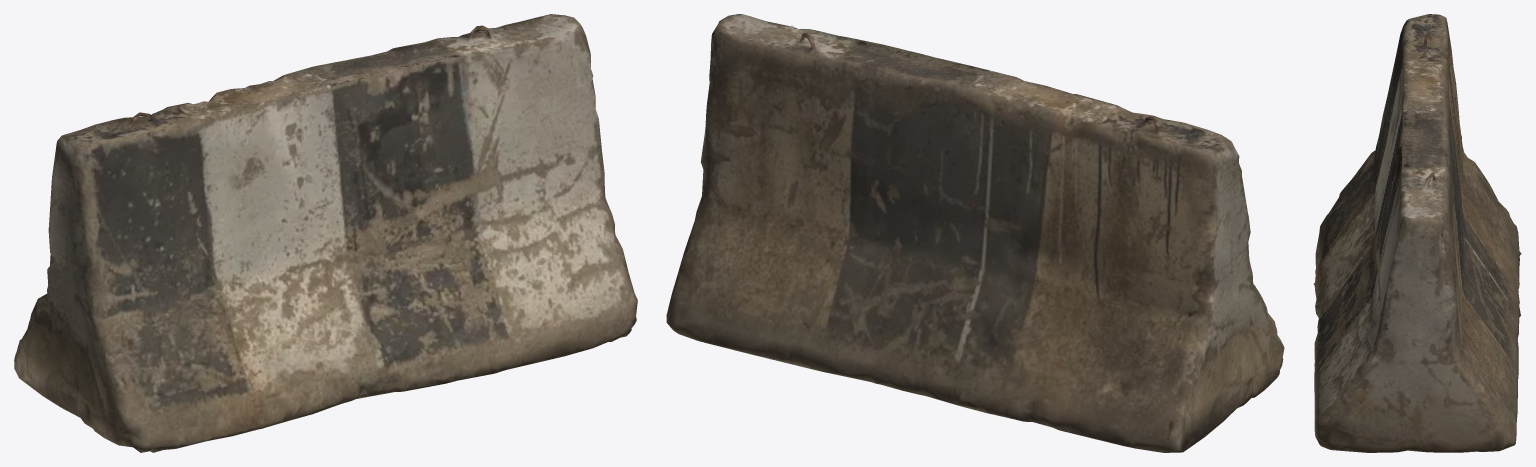
The model's file is road_barrier.glb.
The picture shows the model from 3 angles, left to right: view 1: azimuth 30°, elevation 25°; view 2: azimuth 150°, elevation 25°; view 3: azimuth 270°, elevation 25°; orthographic projection. The views are drawn at different scales.
Parts seen in each view (by area): view 1: concrete_road_barrier; view 2: concrete_road_barrier; view 3: concrete_road_barrier.
Boxes of the visible parts, left/top/right/bottom form: concrete_road_barrier: left=14, top=14, right=637, bottom=452; concrete_road_barrier: left=666, top=14, right=1284, bottom=452; concrete_road_barrier: left=1313, top=14, right=1521, bottom=452.
Bounding box in the file's own units: 1.54 × 0.8298 × 0.6388.
1 material, 1 textured.
